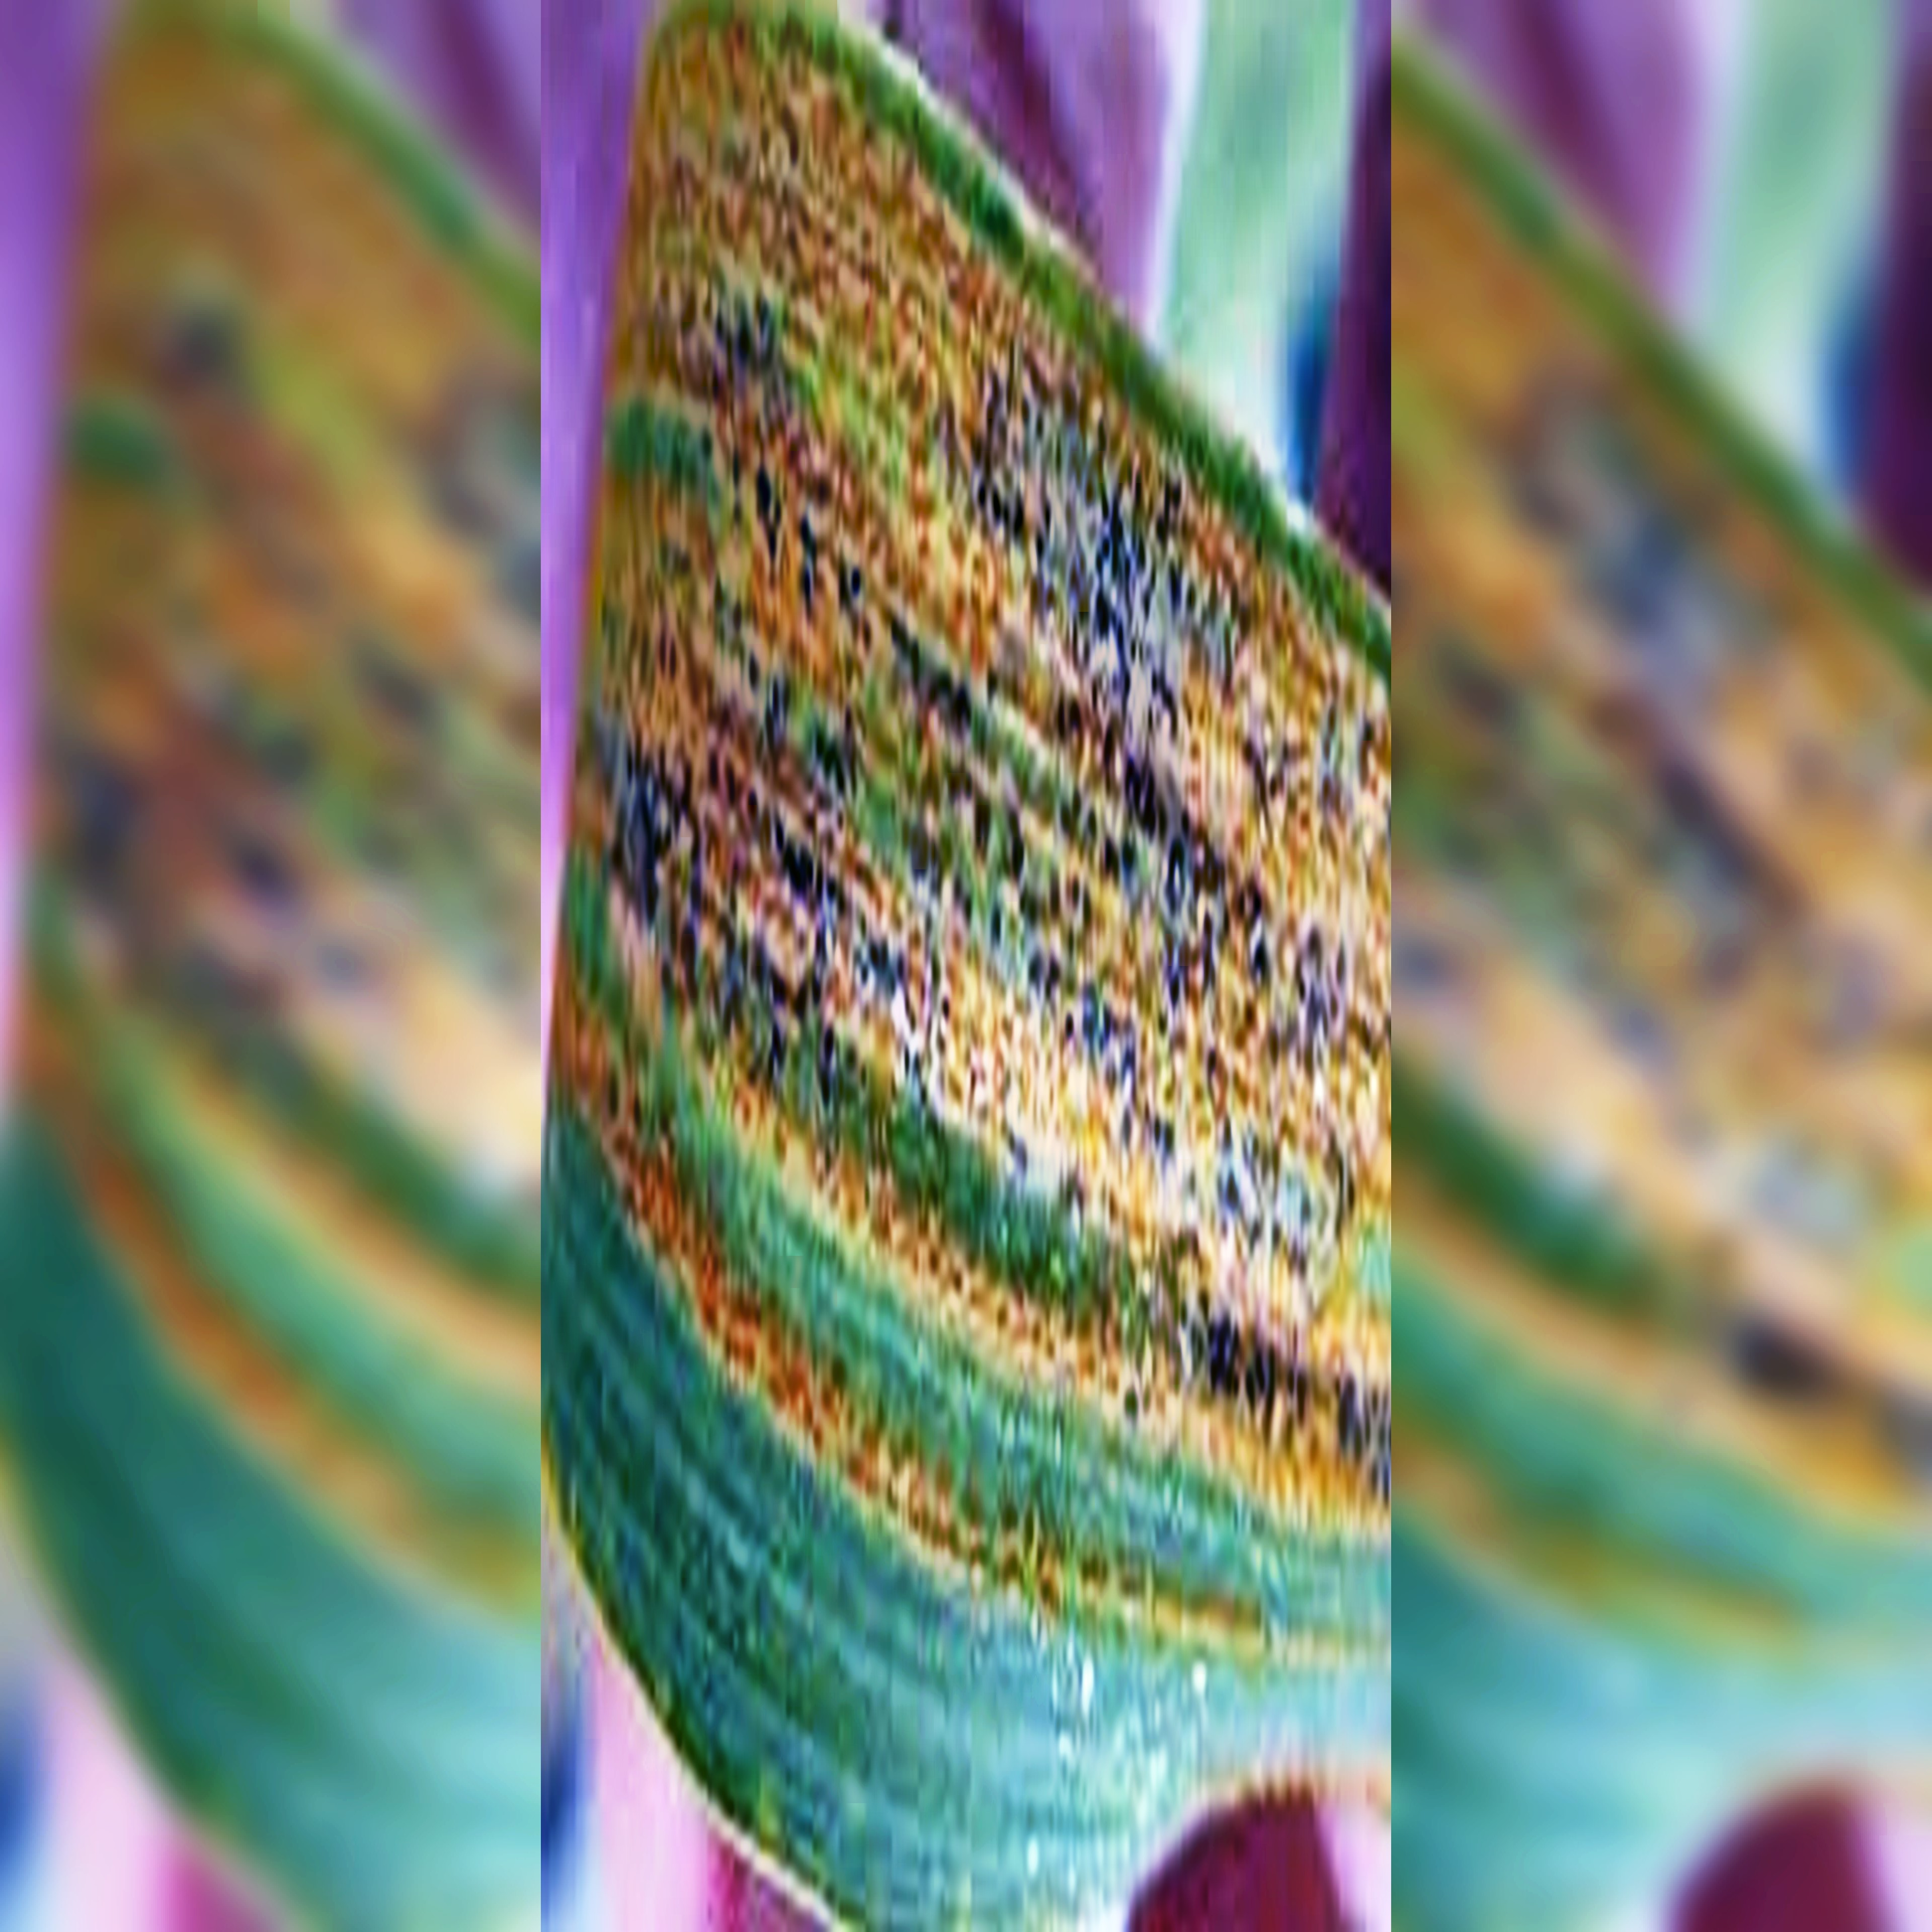Leaf Rust: (552, 196, 1361, 1576)
